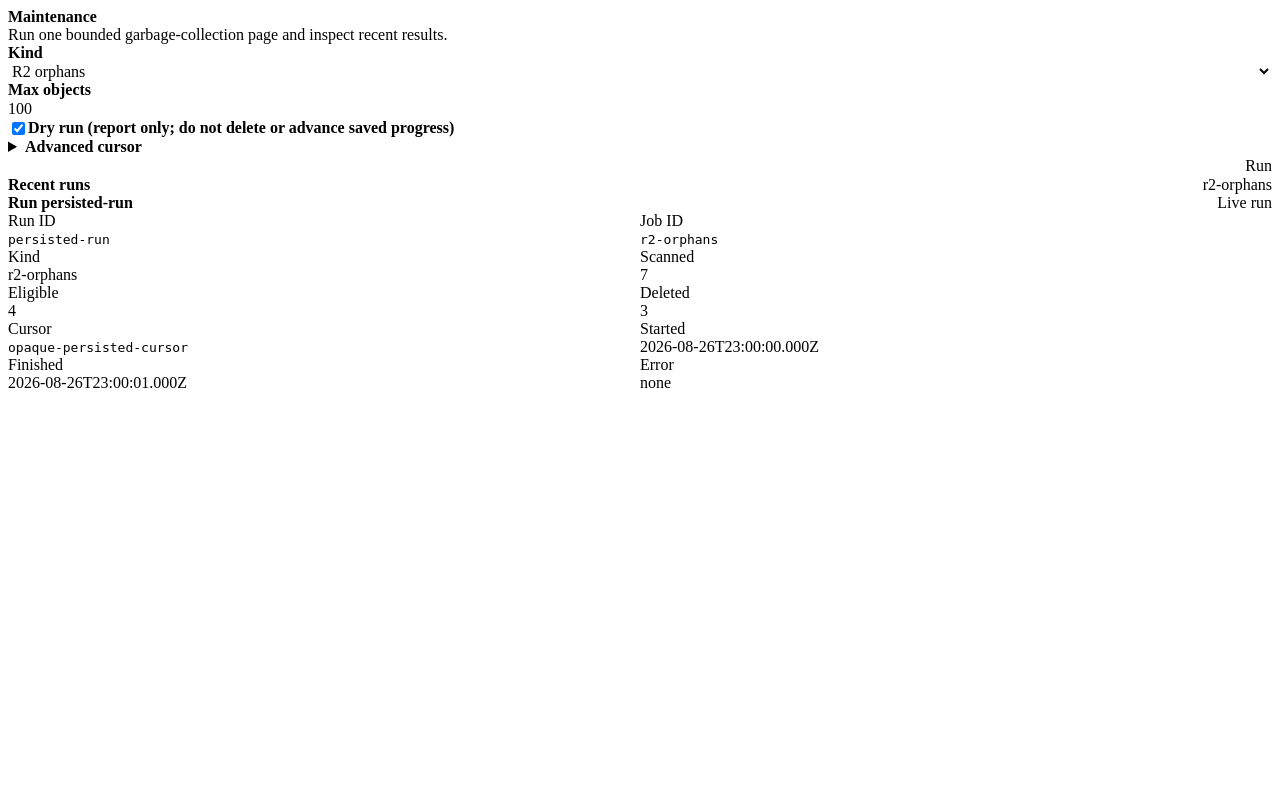
GcPanel › clears old-kind rows and errors before the next kind history resolves
The width and height of the screenshot is (1280, 789).
Expected: the element "Run persisted-run" is shown, [8,194,1272,392]
Click the button "Run": click(1259, 166) [1245,156,1272,176]
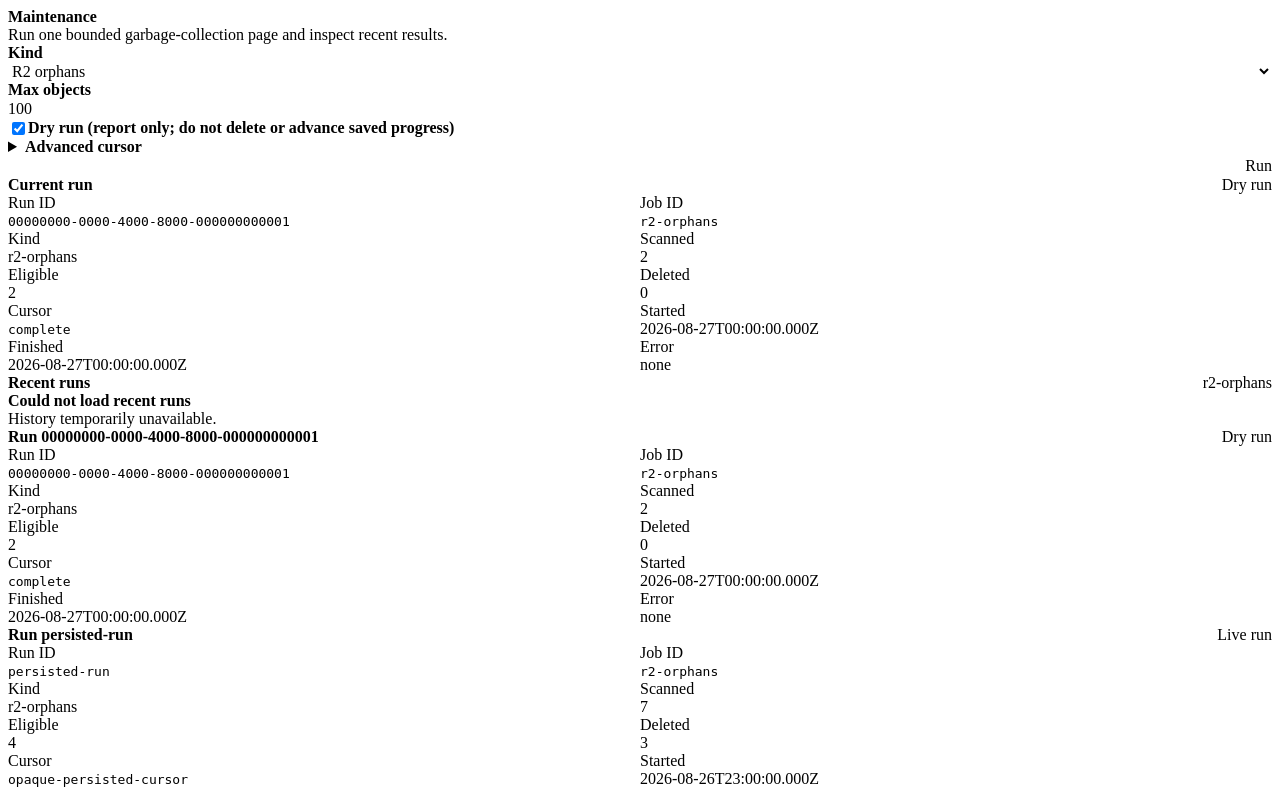
Expected: the text "Could not load recent runs" is shown, [8,392,191,409]
Select "Expired ledger rows" in the dropdown labelled "Kind": (640, 72) [8,62,1272,81]
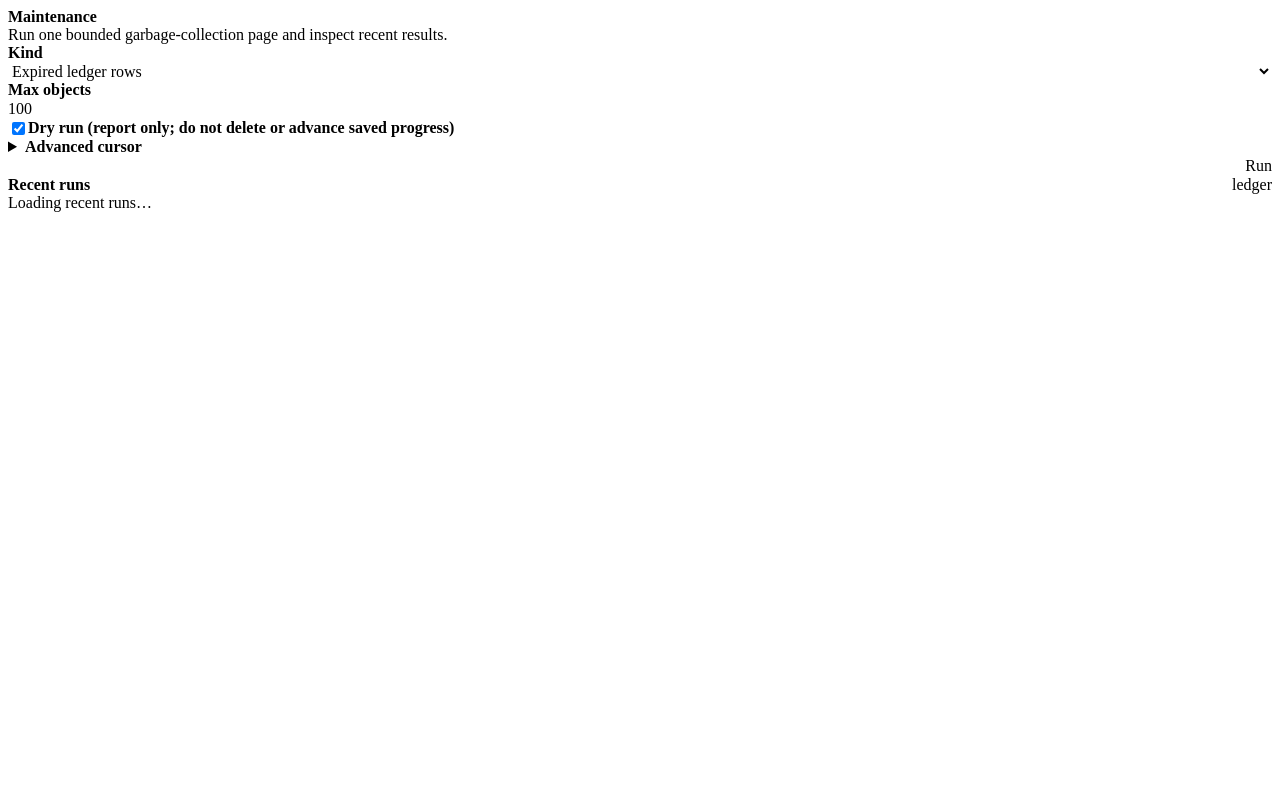
Expected: the text "Run persisted-run" is gone
Expected: the text "Could not load recent runs" is gone
Expected: the text "Loading recent runs…" is shown, [8,194,152,211]
